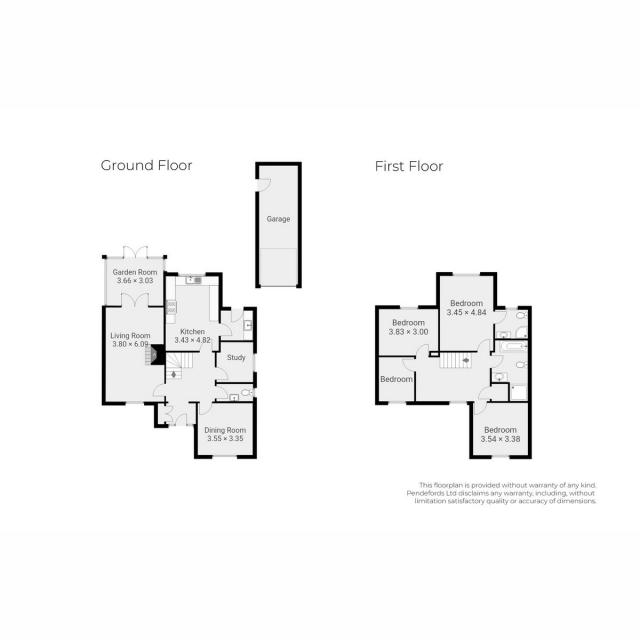DOOR: (493, 310, 508, 325), (198, 338, 213, 353), (230, 307, 244, 323), (490, 354, 504, 369), (199, 401, 213, 416), (219, 322, 233, 337), (214, 366, 229, 380), (473, 401, 487, 415), (402, 358, 416, 372), (415, 344, 429, 358), (215, 385, 229, 399), (152, 383, 166, 397), (477, 338, 490, 353), (174, 413, 188, 426)
DOUBLE DOOR: (120, 292, 149, 307), (122, 245, 148, 259)
ROOM: (101, 292, 166, 406), (436, 272, 507, 353), (163, 272, 233, 353), (469, 401, 532, 460), (194, 401, 257, 459), (375, 305, 440, 358), (375, 355, 416, 405), (215, 340, 257, 384)
WINDOW: (212, 454, 238, 460), (452, 272, 481, 277), (177, 272, 206, 277), (388, 400, 407, 406), (399, 305, 419, 310), (125, 401, 145, 406), (252, 353, 257, 373), (491, 455, 510, 460), (505, 306, 518, 310), (253, 387, 257, 398)
